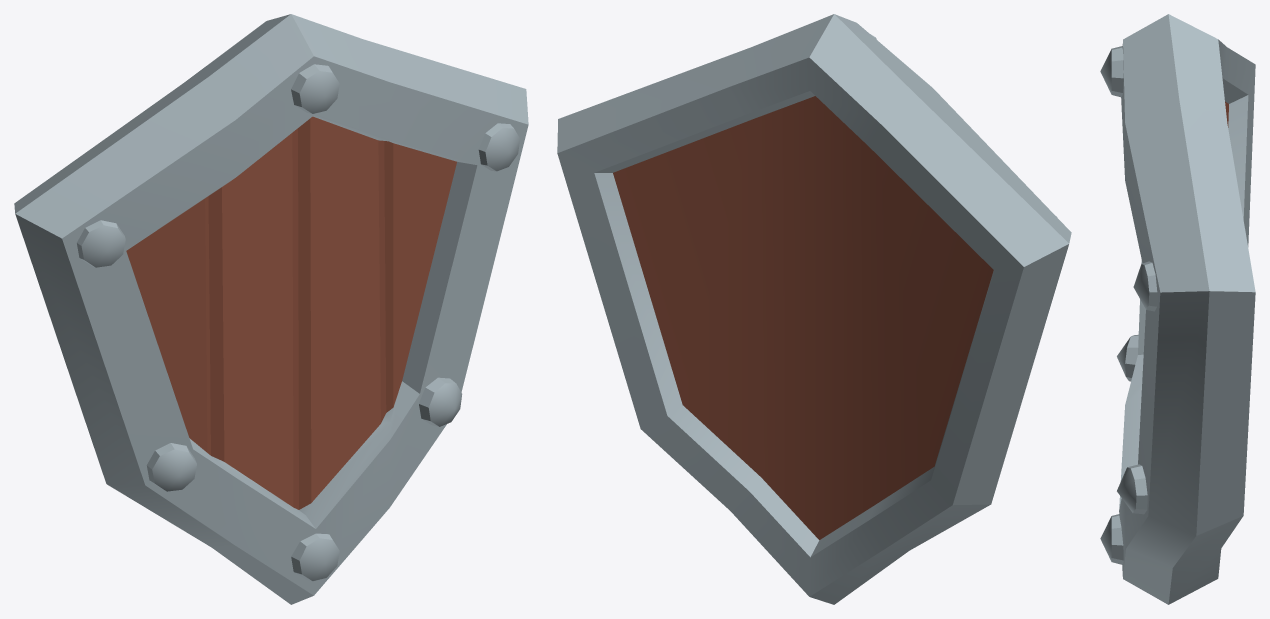
File: Shield.gltf
3 renders of one model, left to right at view 1: azimuth 30°, elevation 25°; view 2: azimuth 150°, elevation 25°; view 3: azimuth 270°, elevation 25°, orthographic.
Parts seen in each view (by area): view 1: shield_uncommon; view 2: shield_uncommon; view 3: shield_uncommon.
Boxes of the visible parts, bbox=[...] form: shield_uncommon: bbox=[14, 14, 528, 604]; shield_uncommon: bbox=[557, 14, 1071, 604]; shield_uncommon: bbox=[1100, 14, 1255, 604].
Bounding box in the file's own units: 0.7567 × 0.8359 × 0.1991.
